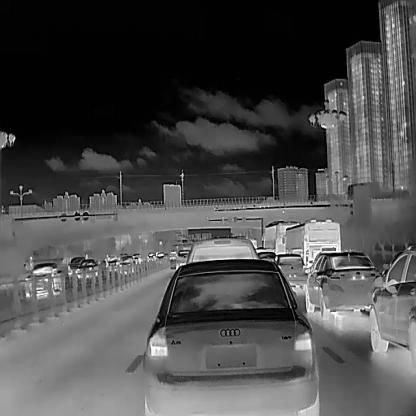bus: (280, 218, 340, 269), (260, 219, 300, 254)
car: (142, 258, 318, 415), (368, 245, 416, 365), (304, 250, 380, 320), (23, 261, 61, 299), (275, 253, 307, 285), (74, 258, 100, 277), (117, 255, 133, 275), (104, 254, 116, 270), (146, 250, 156, 261)
